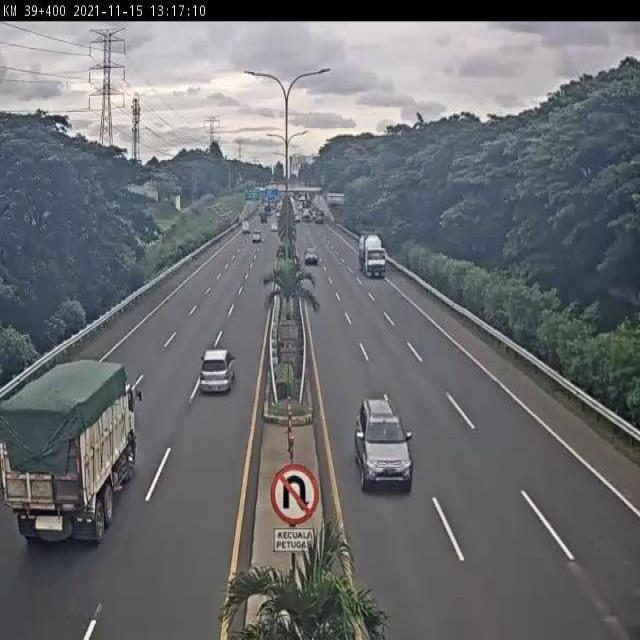car: (352, 392, 413, 492), (198, 347, 238, 396)
truck-l-: (0, 360, 142, 548)
truck-xl-: (356, 231, 390, 280)
